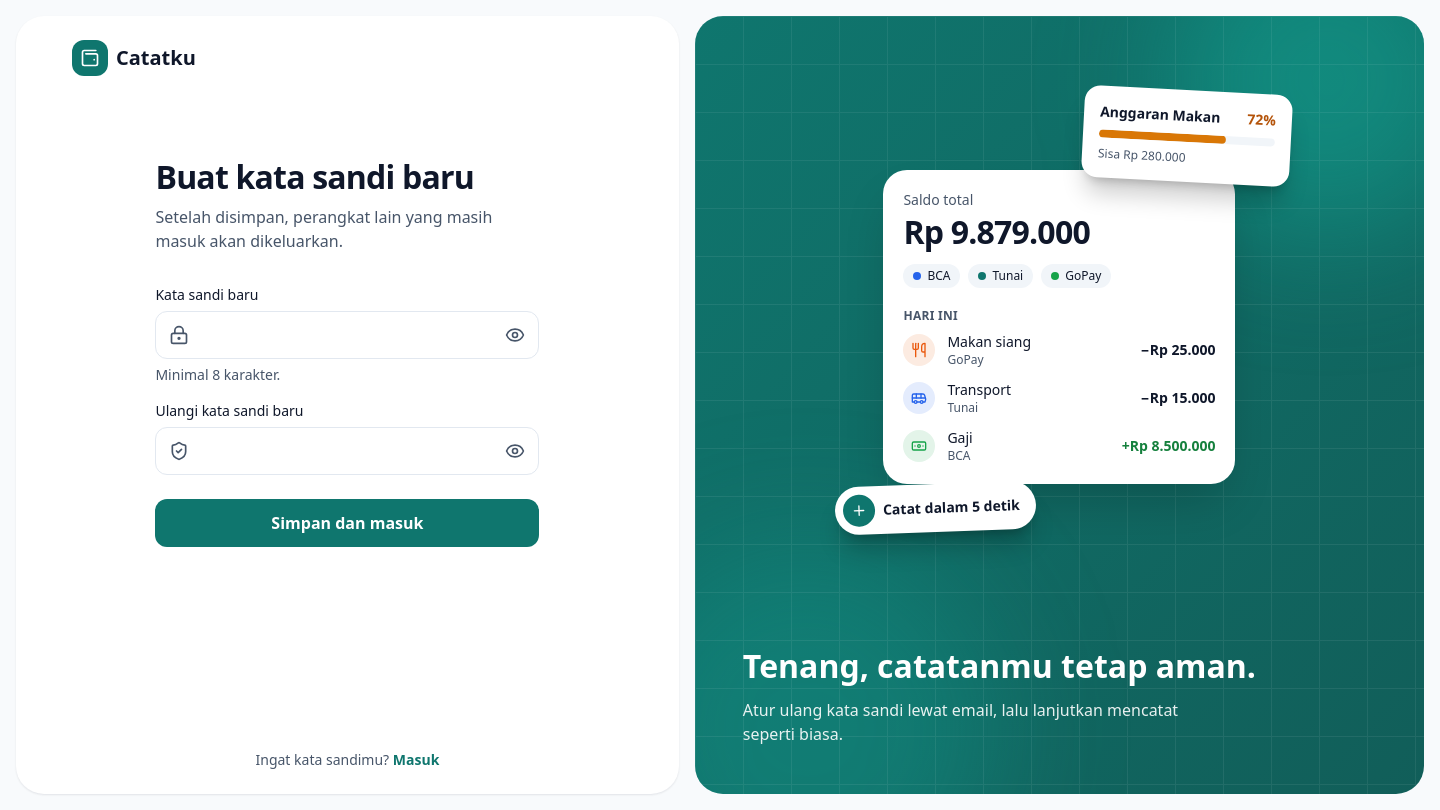
Test: ResetPasswordPage › token kedaluwarsa dari server berpindah ke tampilan tautan tidak berlaku
This screenshot has width=1440, height=810.
Type "sandibaru123" into the password field labelled "Kata sandi baru" at [347, 335], box [155, 311, 539, 359]
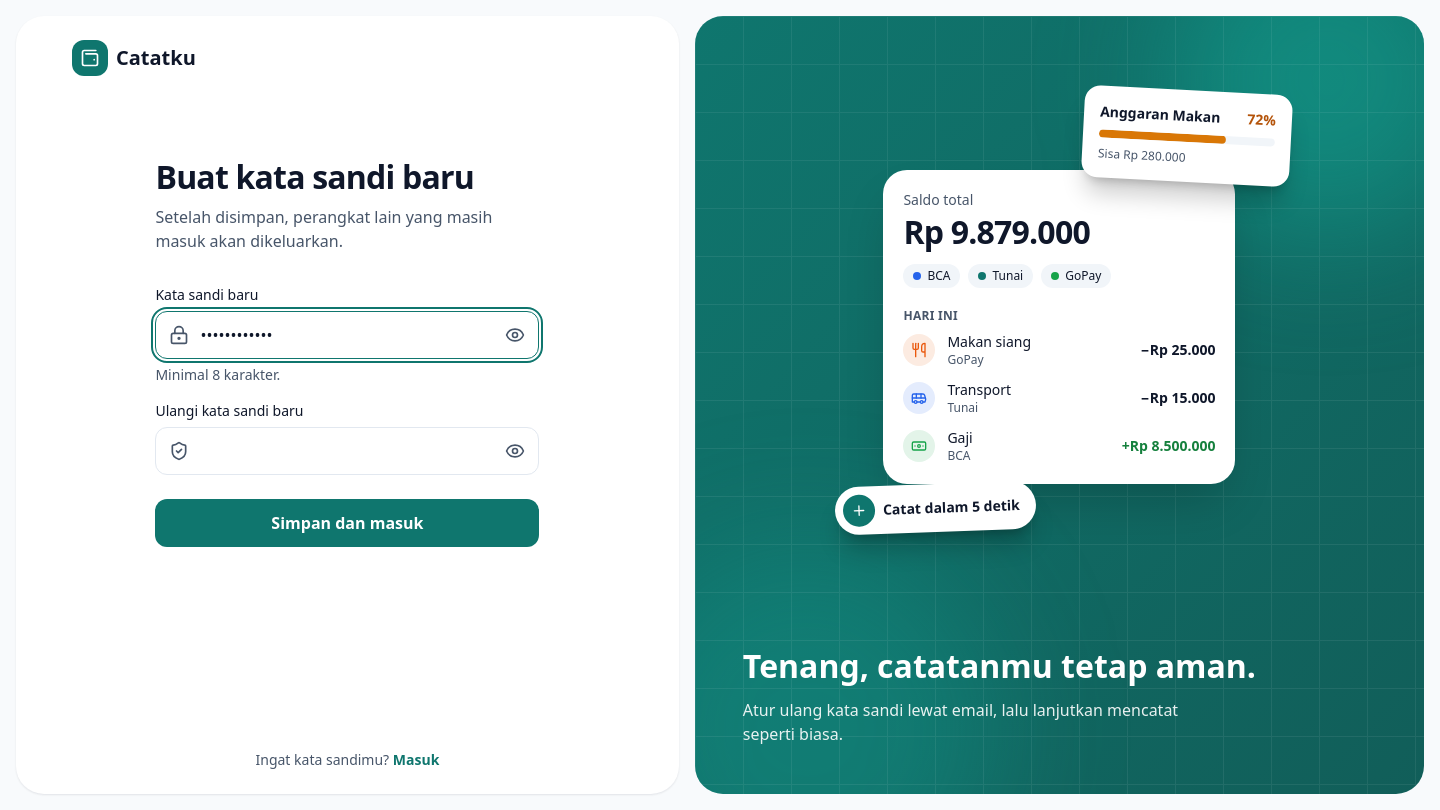
Type "sandibaru123" into the password field labelled "Ulangi kata sandi baru" at [347, 451], box [155, 427, 539, 475]
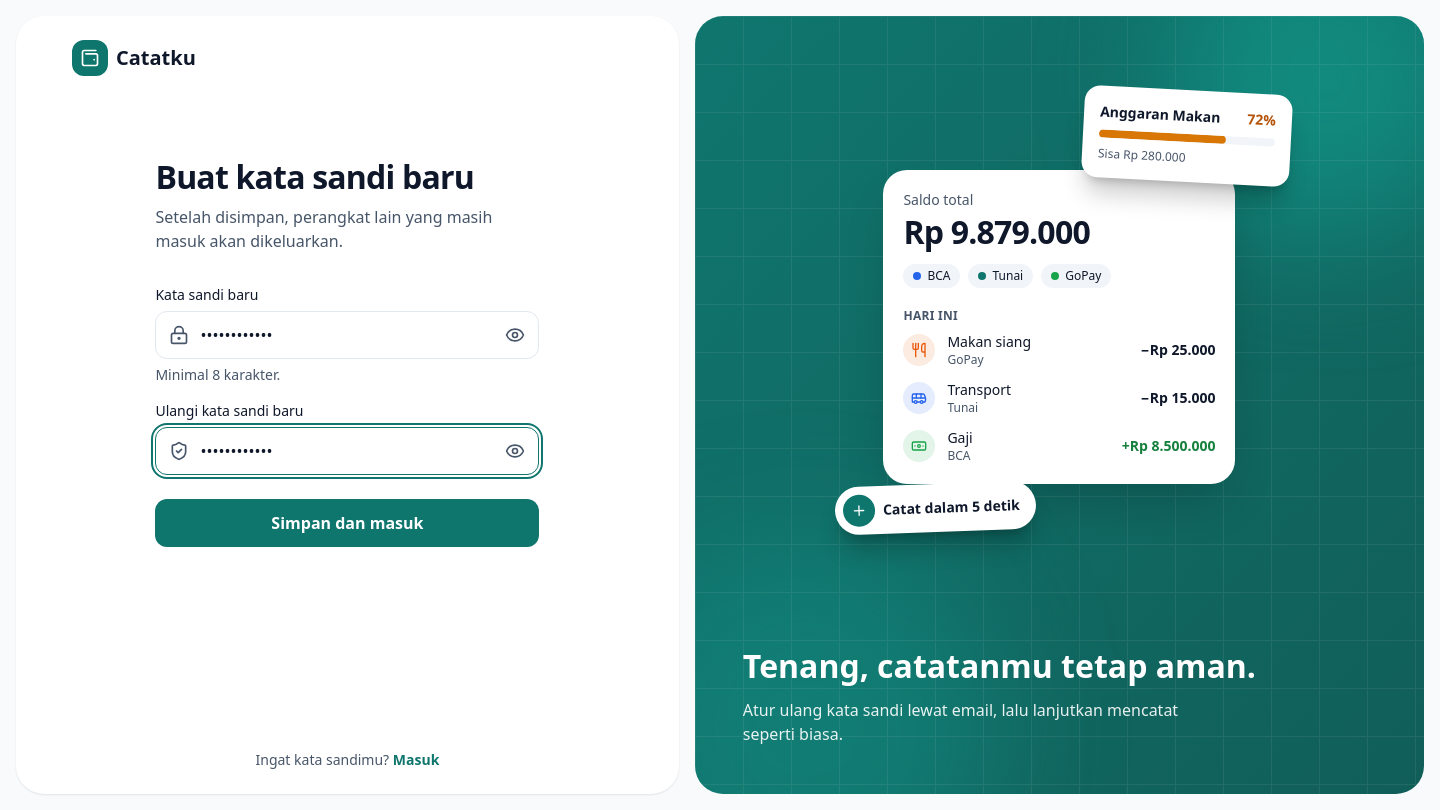
Click the button "Simpan dan masuk" at [347, 523], box [155, 499, 539, 547]
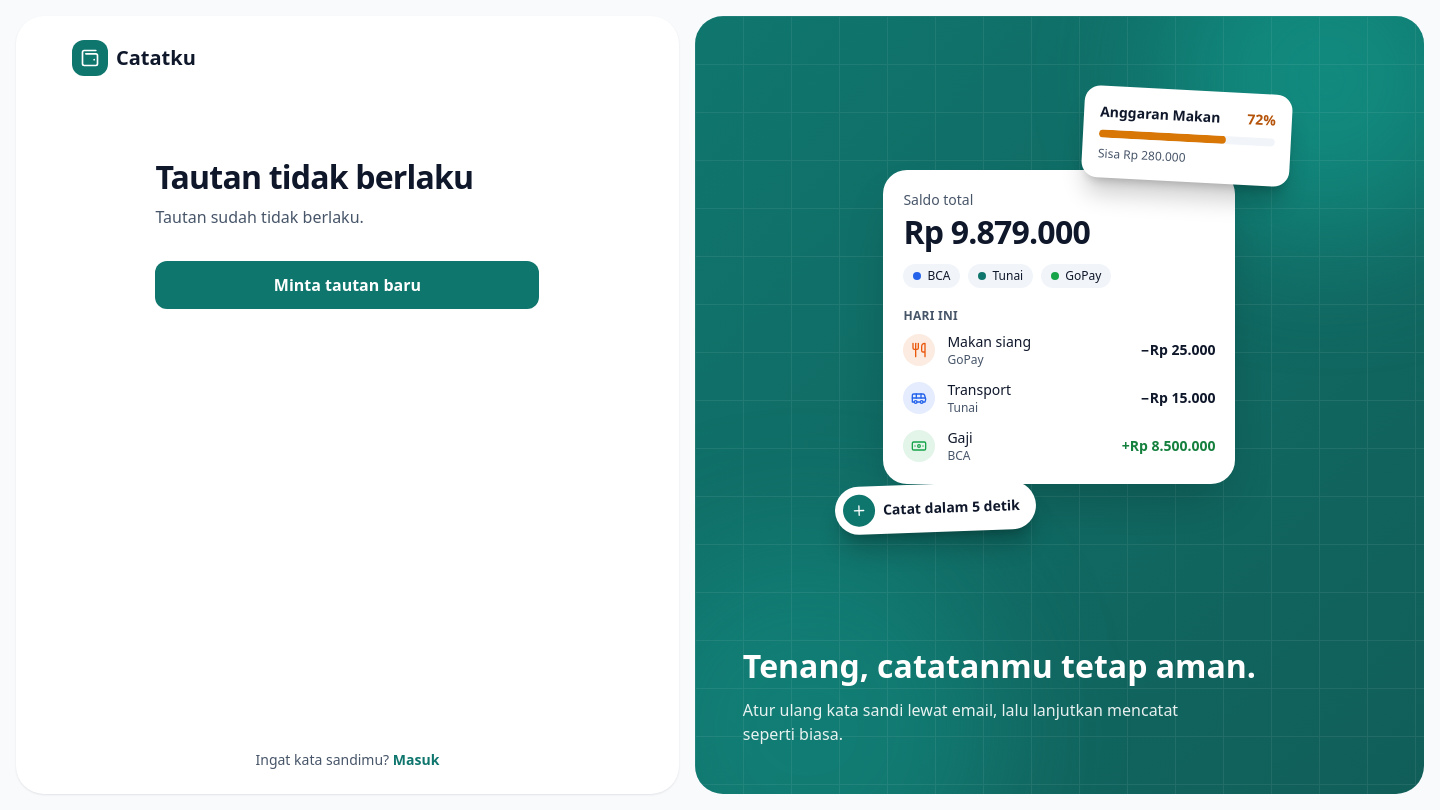
Check: the heading "Tautan tidak berlaku" is shown, box [155, 155, 473, 198]
Check: the text "Tautan sudah tidak berlaku." is shown, box [155, 206, 364, 228]
